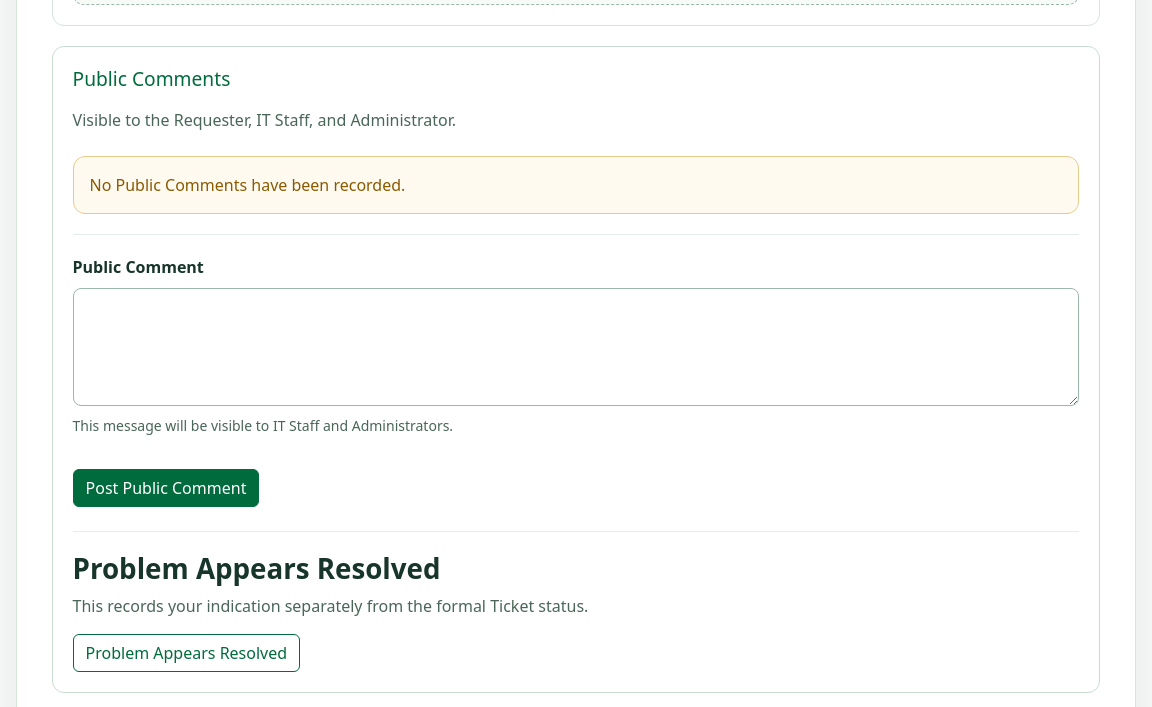
it: Lab 2 Ticket Detail screen › posts Public Comments and records a separate Problem Appears Resolved indication
(page scrolled)
Expected: the heading "Public Comments" is shown, [72,65,230,92]
Expected: the text "No Public Comments have been recorded." is shown, [72,156,1079,214]
Type "The issue is resolved now." into the text box labelled "Public Comment" at [576, 347], box [72,288,1079,406]
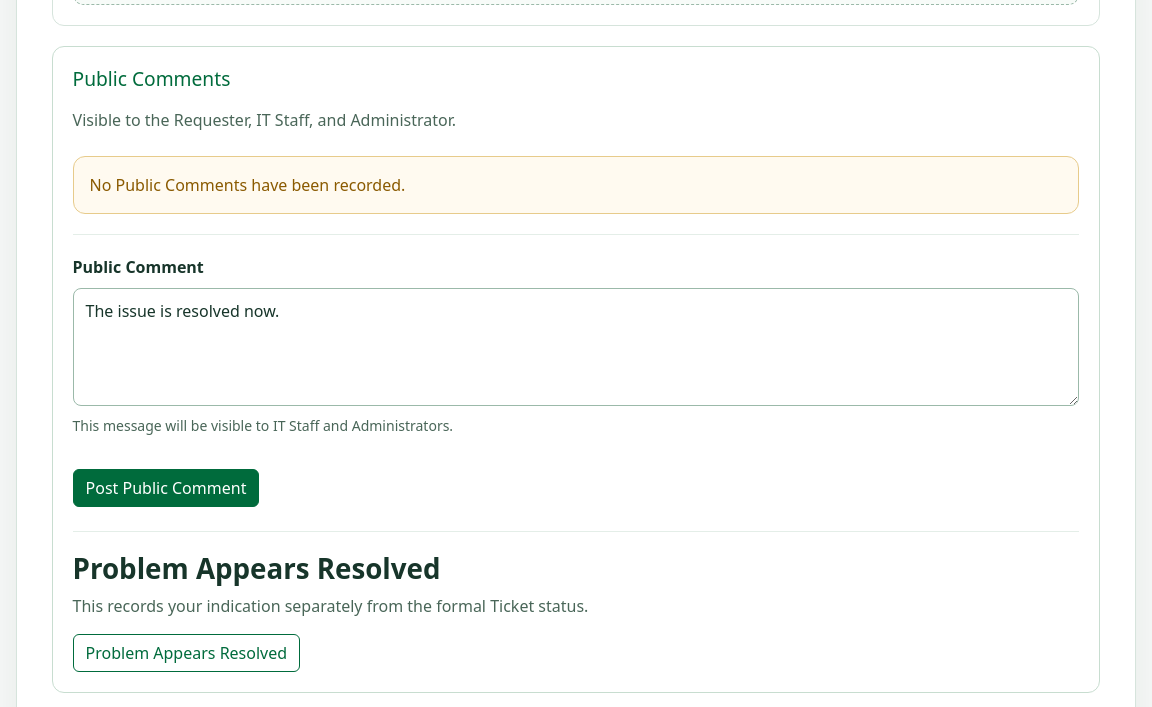
Click the button "Post Public Comment" at [166, 488], box [72,469,259,507]
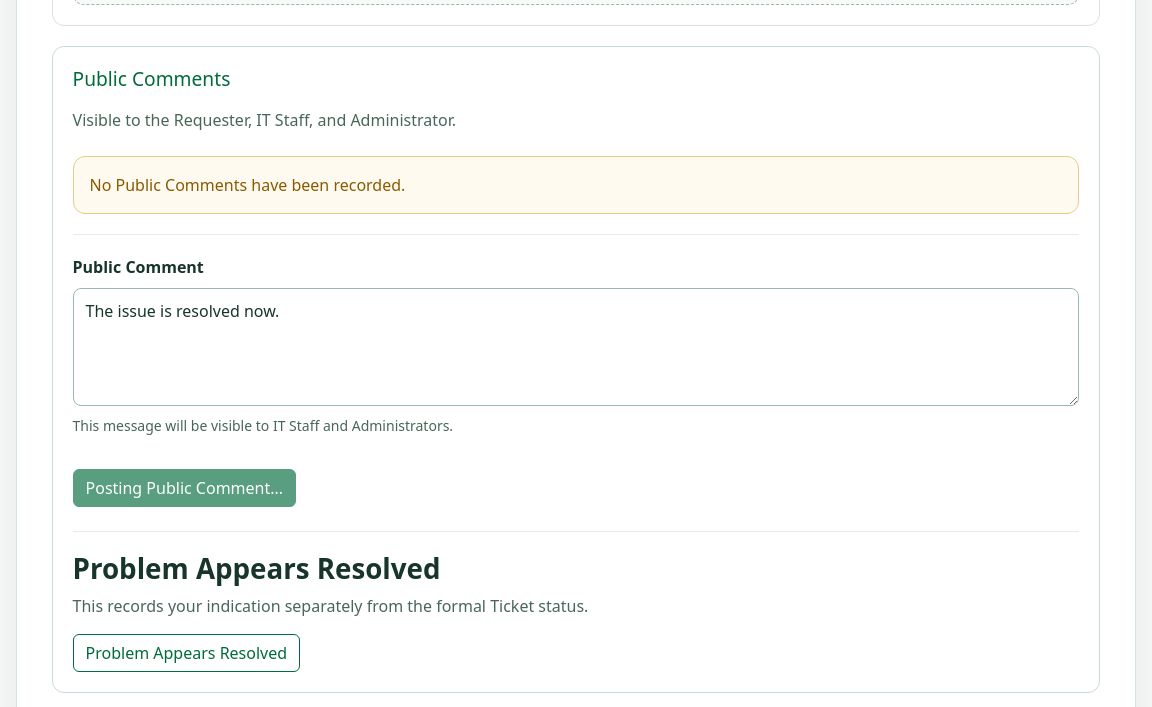
Click the button "Problem Appears Resolved" at [186, 653], box [72,634,300,672]
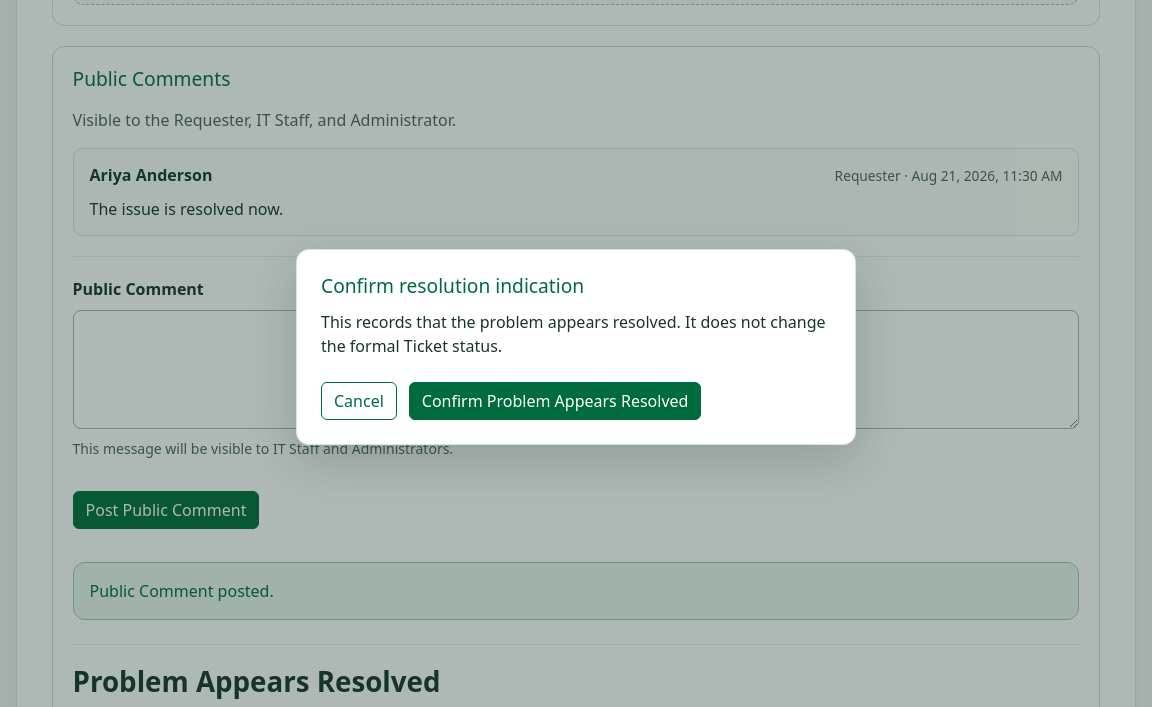
Expected: the button "Confirm Problem Appears Resolved" is shown
Click the button "Confirm Problem Appears Resolved" at [555, 400], box [409,382,701,420]
(page scrolled)
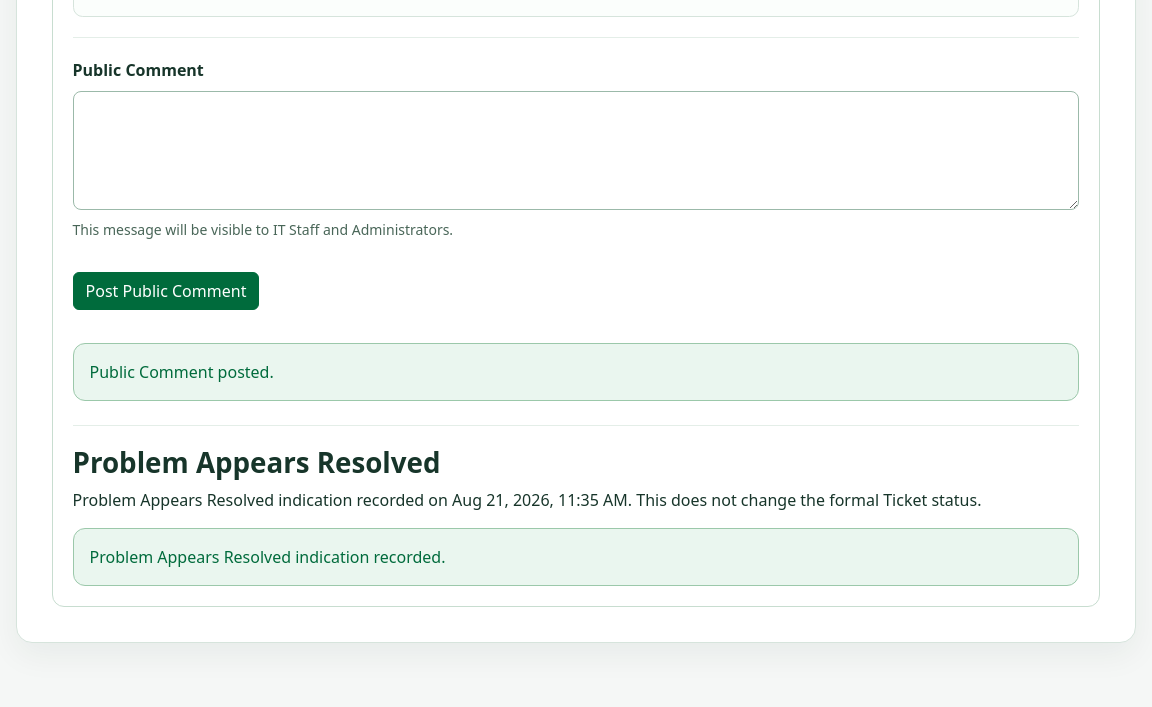
Expected: the text "does not change the formal Ticket status" is shown, [628,489,981,511]
